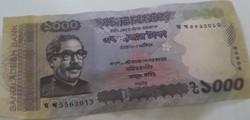1000 taka: (7, 18, 250, 102)
